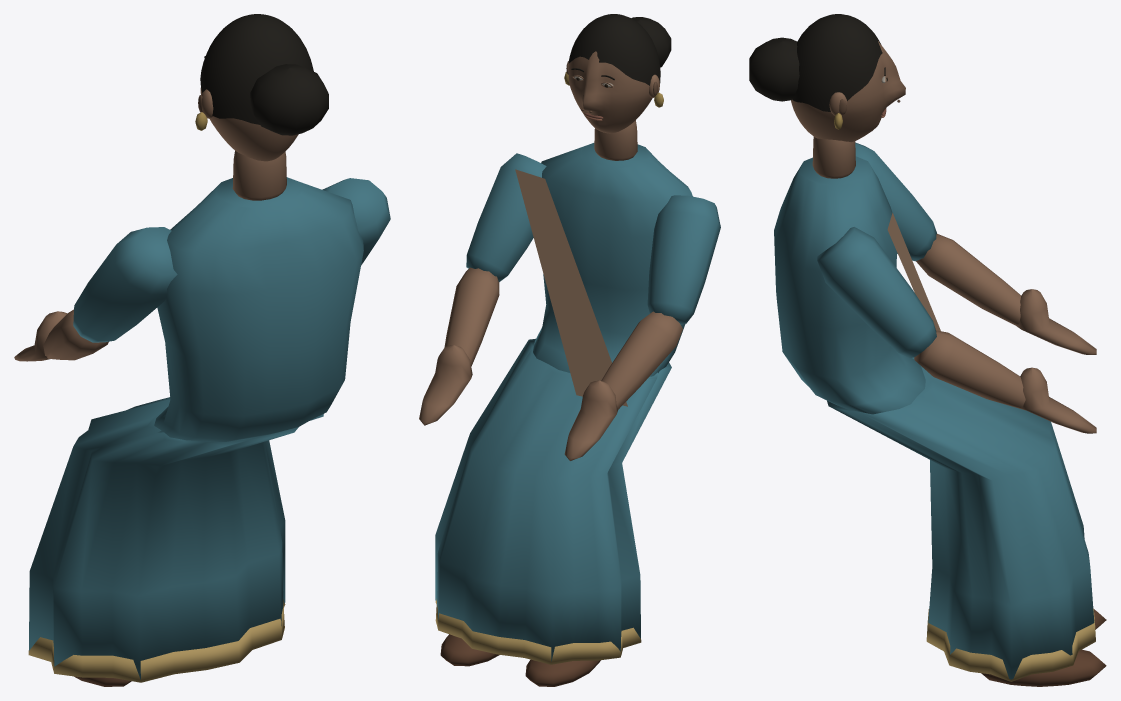
Rendered from passenger_seated_blue.glb.
The picture shows the model from 3 angles, left to right: view 1: azimuth 30°, elevation 25°; view 2: azimuth 150°, elevation 25°; view 3: azimuth 270°, elevation 25°; orthographic projection. The views are drawn at different scales.
Parts seen in each view (by area): view 1: passenger_seated_blue; view 2: passenger_seated_blue; view 3: passenger_seated_blue.
Part boxes in pixels (<box>): passenger_seated_blue: <box>14,14,390,686</box>; passenger_seated_blue: <box>419,14,720,686</box>; passenger_seated_blue: <box>749,14,1106,686</box>.
Bounding box in the file's own units: 0.5566 × 1.37 × 0.693.
